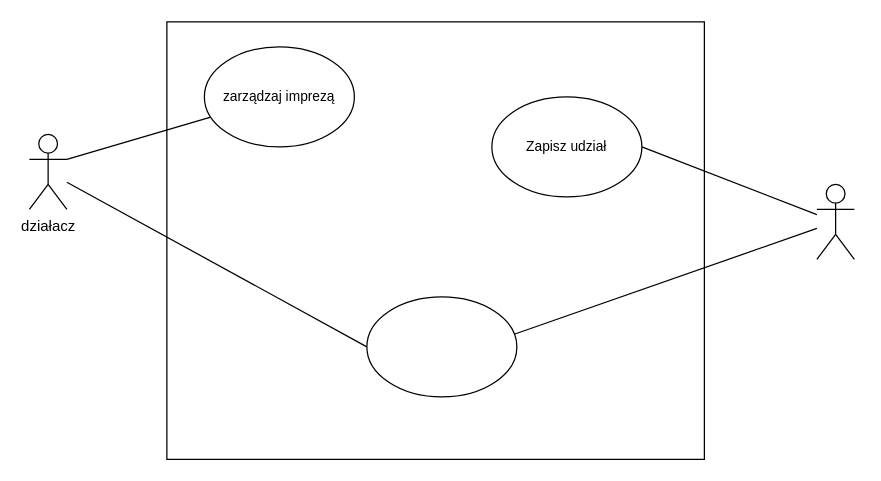
This 881x481 diagram has some shape labels left out. The box of each missing label's shape, as (x1, y1, x2, y2) in pixels:
Generuj raport: (366, 296, 517, 397)
student: (816, 183, 854, 259)
